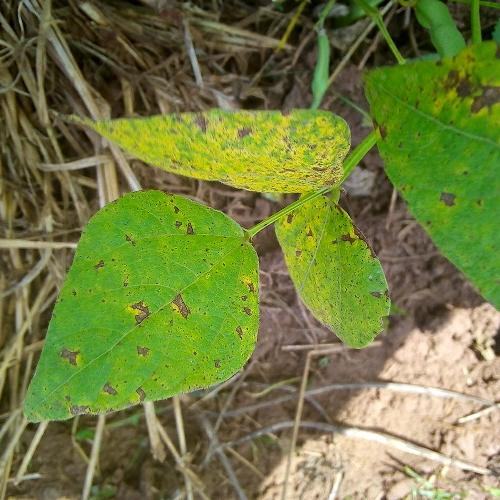hawar: (125, 110, 342, 194), (280, 194, 378, 274), (119, 284, 205, 328), (198, 326, 258, 372), (156, 207, 213, 250), (44, 336, 94, 370), (102, 380, 164, 404), (56, 401, 103, 426)
mozaik: (22, 196, 268, 418), (275, 192, 382, 336)
